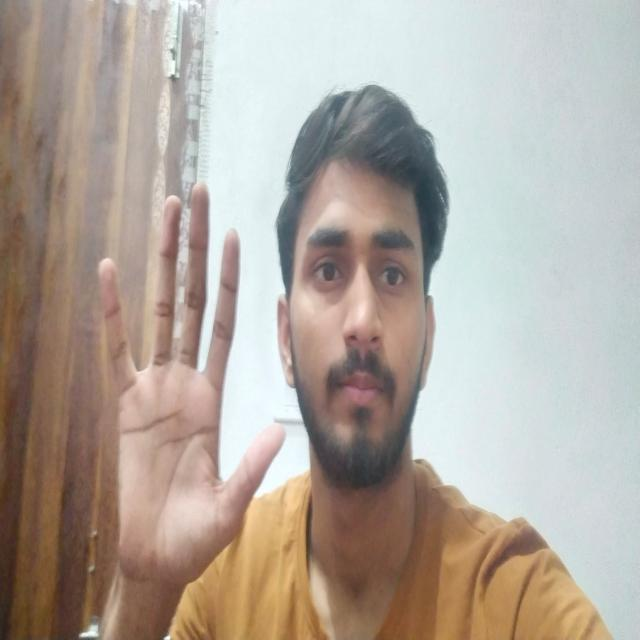hello: (62, 142, 289, 571)
